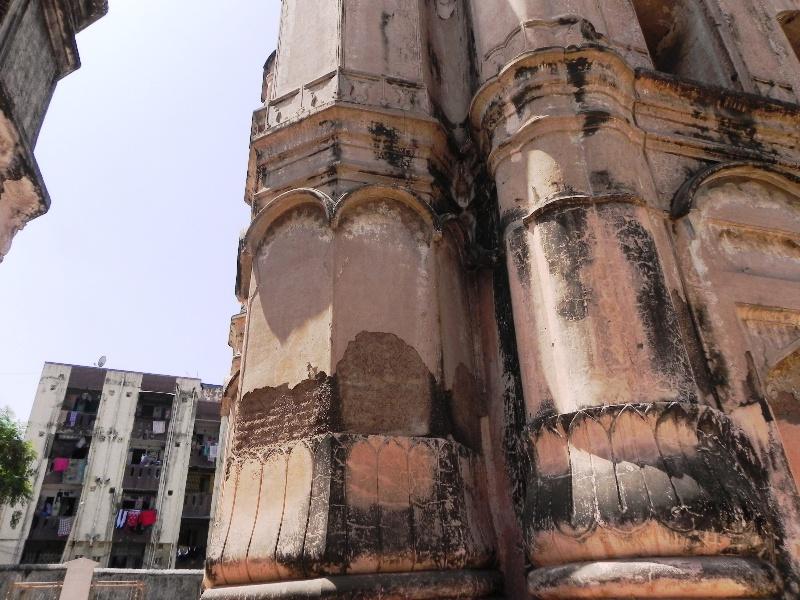Exposed Bricks: (235, 395, 325, 440)
Spalling: (330, 327, 483, 437)
